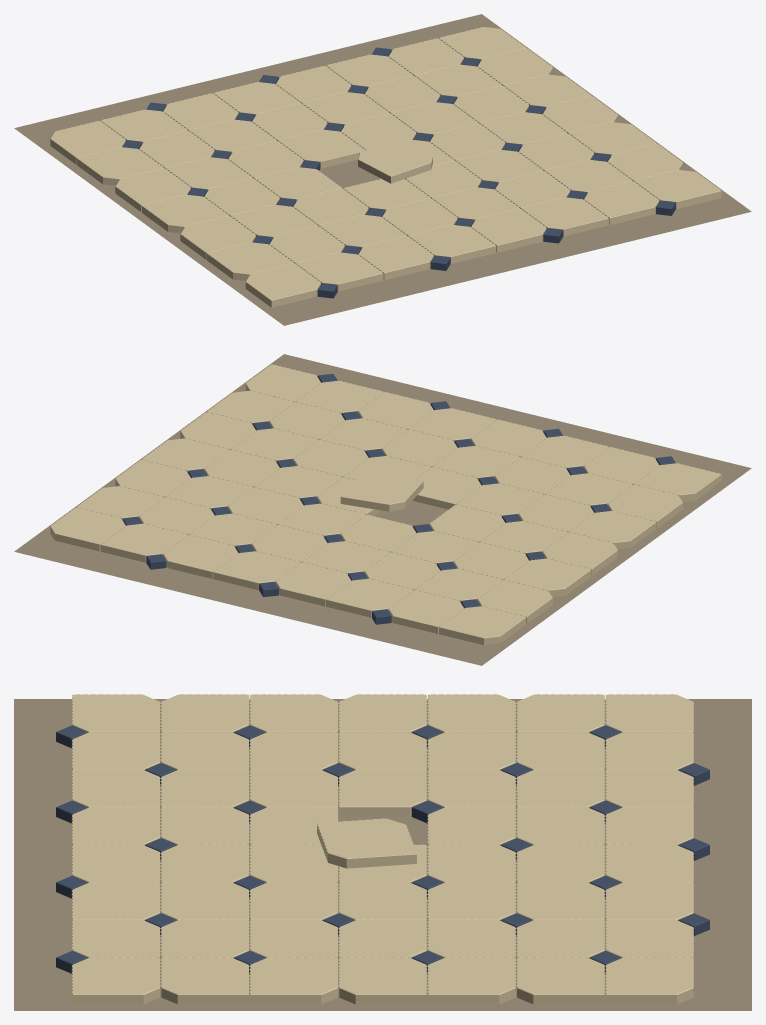
Rendered from terilgan.glb.
3 views of the same model, one above another, from view 1: azimuth 30°, elevation 25°; view 2: azimuth 150°, elevation 25°; view 3: azimuth 270°, elevation 25° (orthographic). The views are drawn at different scales.
Parts seen in each view (by area): view 1: qum, t.027, t, t.003, t.001, t.004, t.002, t.007, t.005, t.006, t.040, t.008 (+44 smaller); view 2: qum, t.048, t.027, t.055, t.049, t.053, t.052, t.054, t.051, t.050, t.016, t.032 (+45 smaller); view 3: qum, t.027, t.007, t.031, t.039, t.015, t.023, t.047, t.055, t.026, t.002, t.034 (+45 smaller).
Boxes of the visible parts, x1=… form: qum: x1=14, y1=14, x2=751, y2=325; t.027: x1=358, y1=138, x2=432, y2=183; t: x1=245, y1=263, x2=320, y2=307; t.003: x1=408, y1=225, x2=496, y2=263; t.001: x1=296, y1=252, x2=383, y2=291; t.004: x1=471, y1=208, x2=546, y2=252; t.002: x1=358, y1=236, x2=433, y2=280; t.007: x1=634, y1=170, x2=721, y2=208; t.005: x1=521, y1=197, x2=608, y2=236; t.006: x1=584, y1=181, x2=659, y2=224; t.040: x1=76, y1=147, x2=163, y2=185; t.008: x1=207, y1=242, x2=294, y2=280; qum: x1=14, y1=354, x2=751, y2=665; t.048: x1=439, y1=606, x2=526, y2=645; t.027: x1=340, y1=473, x2=423, y2=511; t.055: x1=50, y1=507, x2=125, y2=551; t.049: x1=388, y1=590, x2=463, y2=633; t.053: x1=163, y1=535, x2=238, y2=578; t.052: x1=213, y1=551, x2=300, y2=590; t.054: x1=100, y1=523, x2=187, y2=562; t.051: x1=275, y1=562, x2=351, y2=606; t.050: x1=326, y1=578, x2=413, y2=617; t.016: x1=569, y1=511, x2=656, y2=549; t.032: x1=504, y1=558, x2=591, y2=597; qum: x1=14, y1=699, x2=751, y2=1010; t.027: x1=317, y1=818, x2=416, y2=868; t.007: x1=72, y1=957, x2=160, y2=1004; t.031: x1=338, y1=957, x2=427, y2=1004; t.039: x1=427, y1=957, x2=516, y2=1004; t.015: x1=161, y1=957, x2=249, y2=1004; t.023: x1=249, y1=957, x2=338, y2=1004; t.047: x1=516, y1=957, x2=604, y2=1004; t.055: x1=605, y1=957, x2=693, y2=1004; t.026: x1=338, y1=769, x2=427, y2=816; t.002: x1=72, y1=769, x2=160, y2=807; t.034: x1=427, y1=769, x2=516, y2=807.
Bounding box in the file's own units: 1.66 × 0.052 × 1.66.
